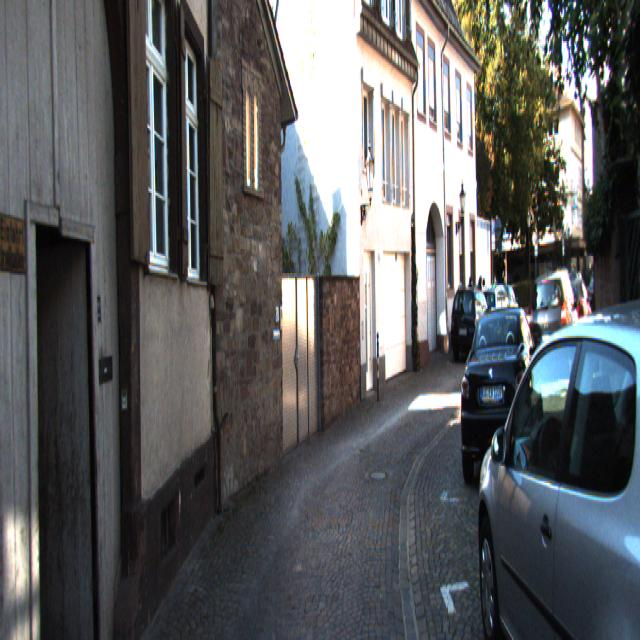Car: (470, 295, 640, 638), (459, 303, 543, 494), (529, 265, 582, 376), (450, 285, 493, 363), (474, 286, 516, 352)
